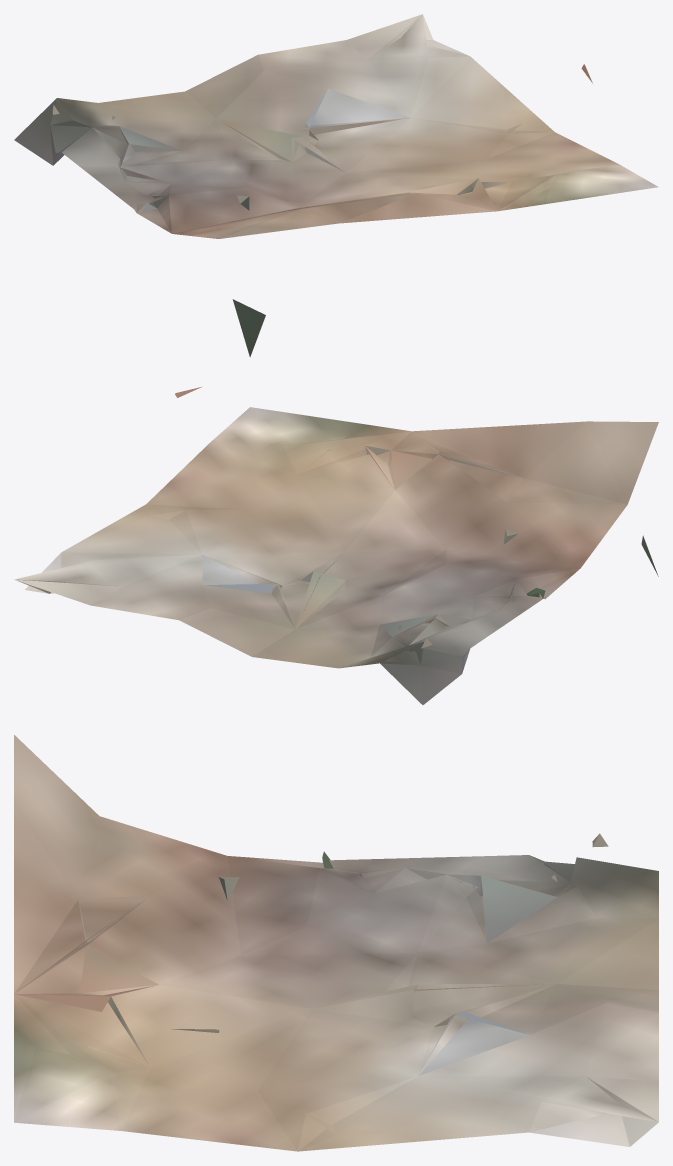
The model's file is Tile__004__006.glb.
3 renders of one model, top to bottom at view 1: azimuth 30°, elevation 25°; view 2: azimuth 150°, elevation 25°; view 3: azimuth 270°, elevation 25°, orthographic. The views are drawn at different scales.
Parts seen in each view (by area): view 1: root; view 2: root; view 3: root.
Boxes of the visible parts, bbox=[...] form: root: bbox=[14, 14, 658, 357]; root: bbox=[14, 386, 658, 704]; root: bbox=[14, 735, 658, 1151].
Bounding box in the file's own units: 101 × 36.8 × 101.
1 material, 1 textured.
